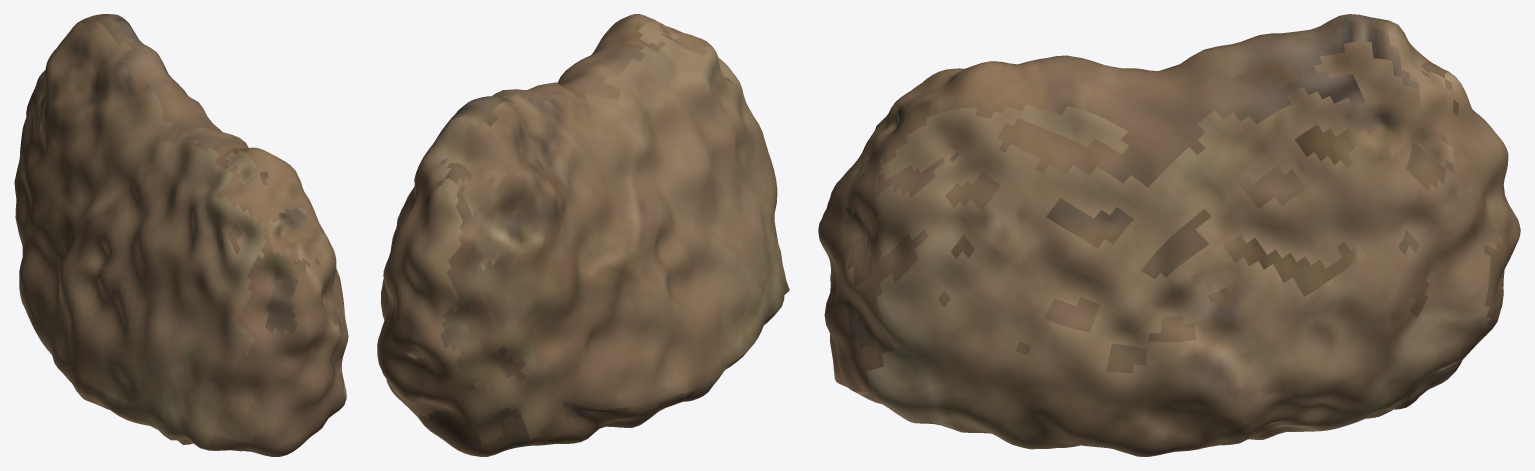
The model's file is Big-Rock-3-tex.fbx.
3 views of the same model, side by side, from view 1: azimuth 30°, elevation 25°; view 2: azimuth 150°, elevation 25°; view 3: azimuth 270°, elevation 25° (orthographic). The views are drawn at different scales.
Visible parts, largest first — view 1: rock.003; view 2: rock.003; view 3: rock.003.
Boxes of the visible parts, bbox=[...] form: rock.003: bbox=[14, 14, 348, 456]; rock.003: bbox=[377, 14, 789, 456]; rock.003: bbox=[818, 14, 1520, 456].
Size of the model in its own units: 495 by 676 by 1051.
